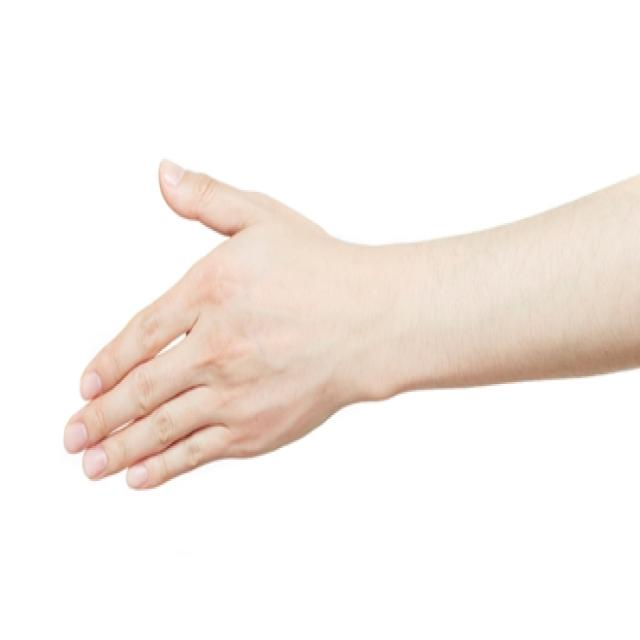Nail: (84, 446, 106, 478), (64, 423, 88, 452), (160, 160, 184, 187), (81, 370, 101, 398), (126, 464, 148, 488)
